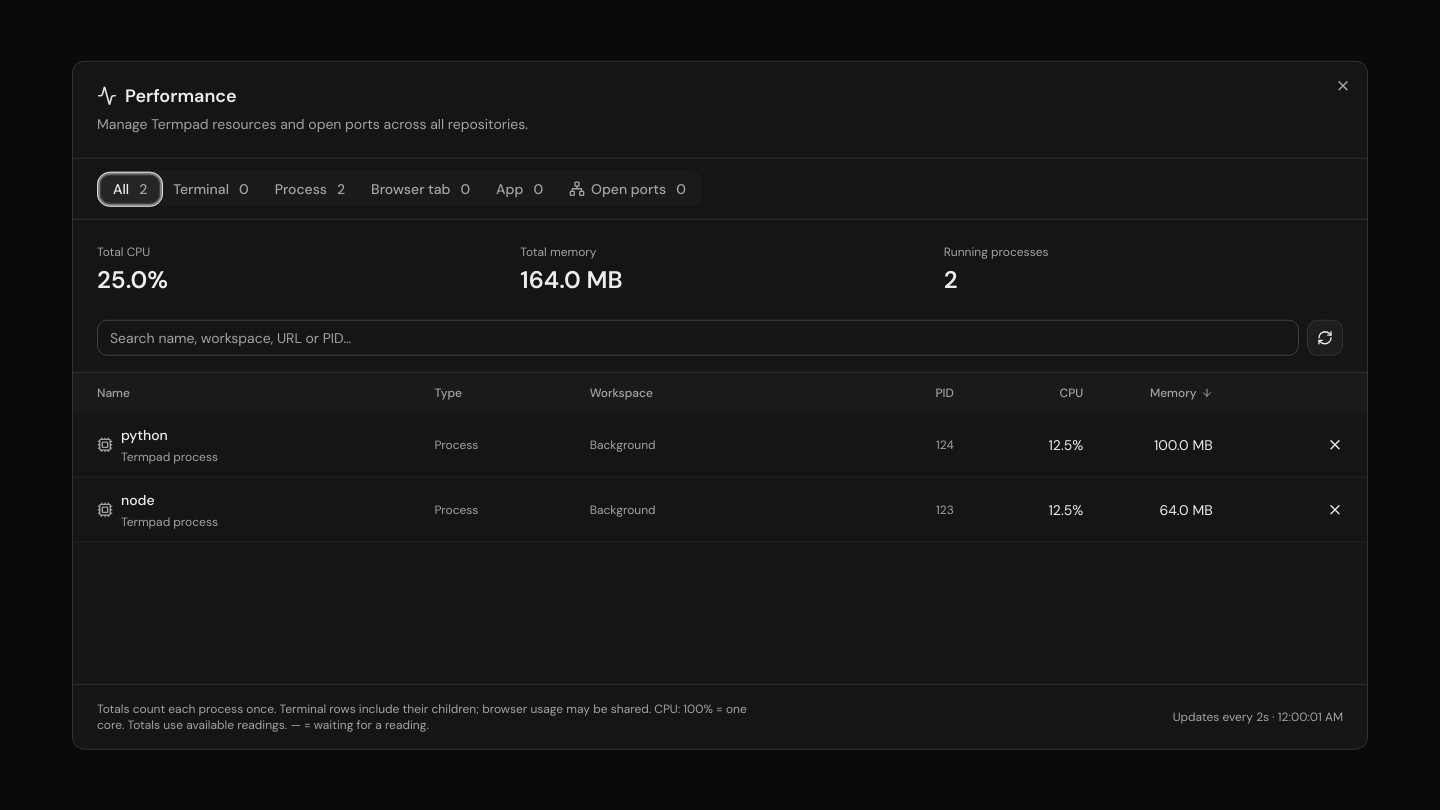
Test: Performance view › keeps previous readings visible on refresh errors and disables close actions
The width and height of the screenshot is (1440, 810).
Expected: the text "node" is shown, [121,491,155,509]
Click the button named "Refresh performance" at (1325, 338), box [1307,320,1343,356]
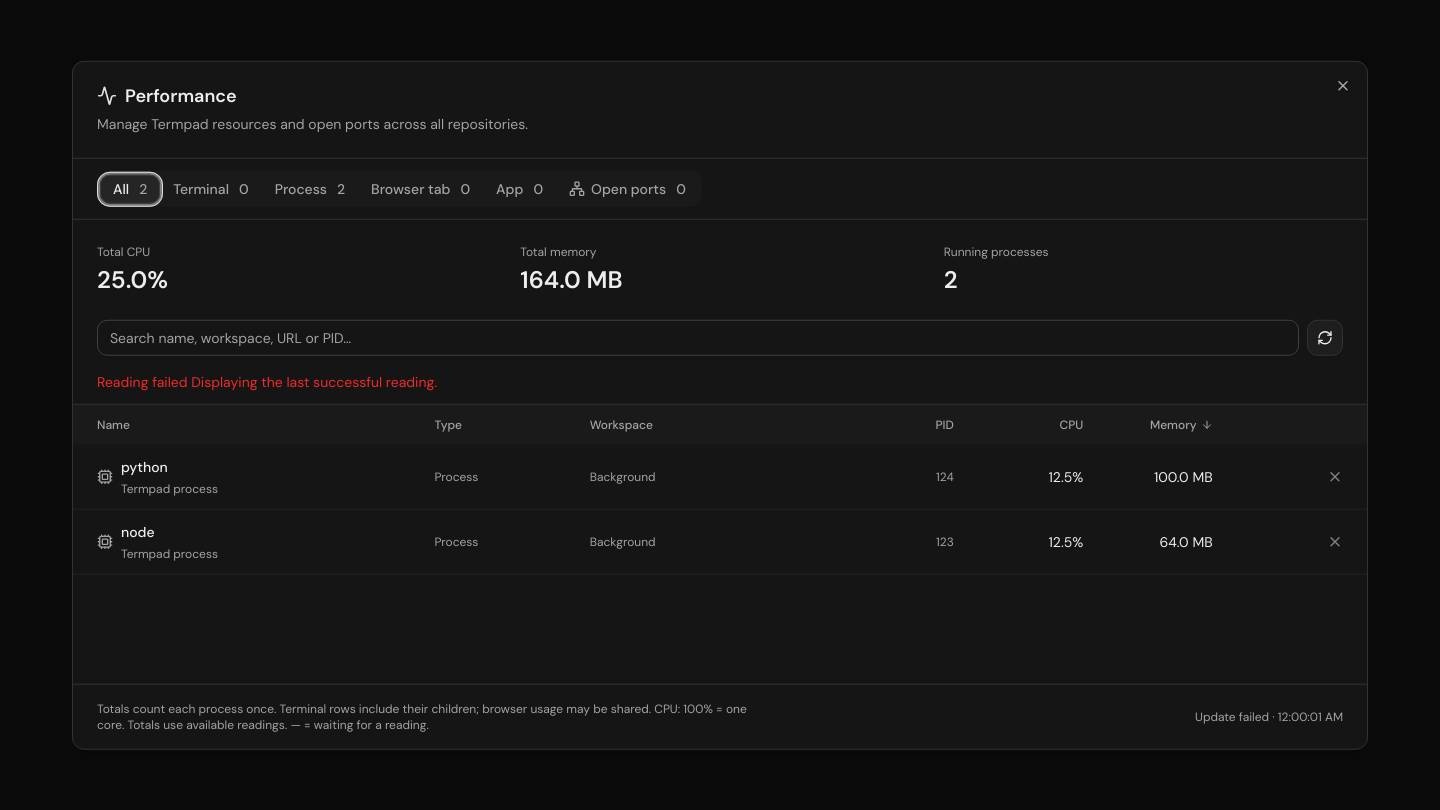
Expected: the text "164.0 MB" is shown, [520,264,622,295]
Expected: the message shows "Reading failed", [97,373,188,391]
Expected: the button named "Close node" is disabled, [1319,526,1351,558]
